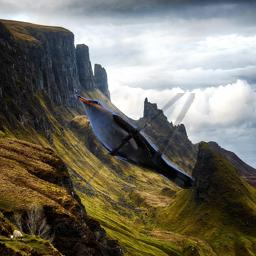Cuckoo: (73, 93, 195, 189)
